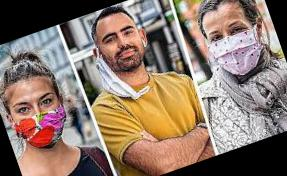with_mask: (8, 83, 69, 145), (204, 12, 263, 75)
without_mask: (101, 21, 153, 79)
